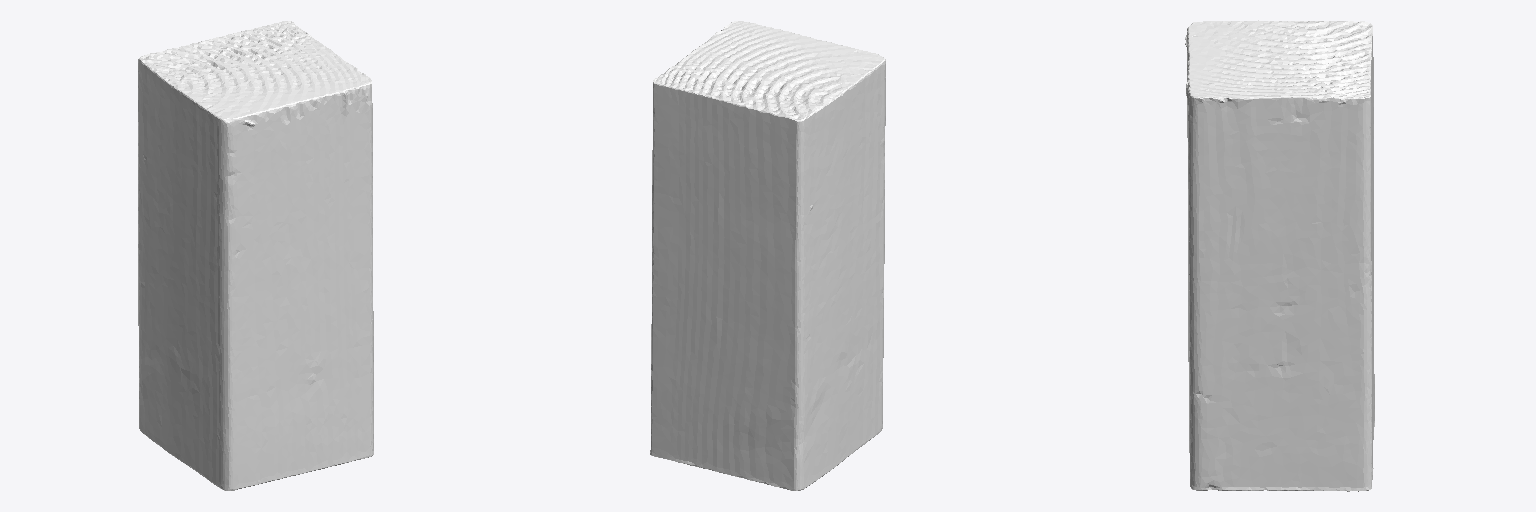
URDF robot description (pitcher_base):
<robot name="pitcher_base">
	<link name="base_link">
		<visual>
			<origin xyz="0.013413446511744047 -0.03347736239251225 -0.12263624751276252" rpy="0.0 0.0 0.0" />
			<geometry>
				<mesh filename="019_pitcher_base/google_16k/textured.obj" scale="1 1 1" />
			</geometry>
			<material name="texture">
				<color rgba="1.0 1.0 1.0 1.0" />
			</material>
		</visual>
		<collision>
			<origin xyz="0.013413446511744047 -0.03347736239251225 -0.12263624751276252" rpy="0.0 0.0 0.0" />
			<geometry>
				<mesh filename="019_pitcher_base/google_16k/textured_vhacd.obj" scale="1 1 1" />
			</geometry>
		</collision>
		<inertial>
			<mass value="0.178" />
			<inertia ixx="1e-3" ixy="0.0" ixz="0.0" iyy="1e-3" iyz="0.0" izz="1e-3" />
		</inertial>
	</link>
</robot>

--- What the picture shows (computed from the rendered views, not written in the file) ---
3 views of the same robot in one strip: view 1: azimuth 30°, elevation 25°; view 2: azimuth 150°, elevation 25°; view 3: azimuth 270°, elevation 25° (orthographic).
Robot: pitcher_base — 1 links, 0 joints (none); root link base_link; default pose: all joints at 0.
Links seen in each view (by area): view 1: base_link; view 2: base_link; view 3: base_link.
Link boxes in pixels (x1=…): base_link: x1=138, y1=21, x2=373, y2=490; base_link: x1=650, y1=21, x2=885, y2=490; base_link: x1=1185, y1=20, x2=1374, y2=491.
Size in the robot's own frame: 0.0906 by 0.0899 by 0.206 metres.
Meshes: 1 distinct files referenced, 1 mesh visuals loaded (1 OBJ).